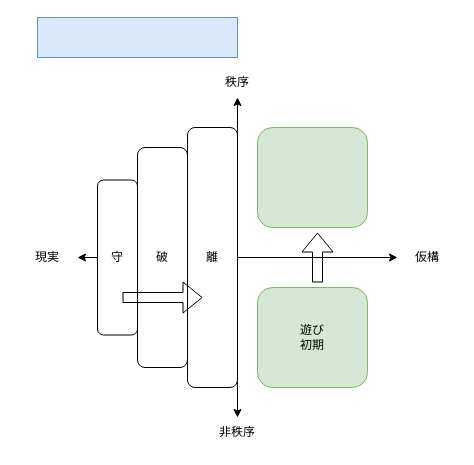
This 474x465 diagram has some shape labels left out. Each missing label, with the box of its shape:
遊び 終盤: (256, 126, 368, 228)
遊びの"空間"➁: (36, 16, 238, 58)
